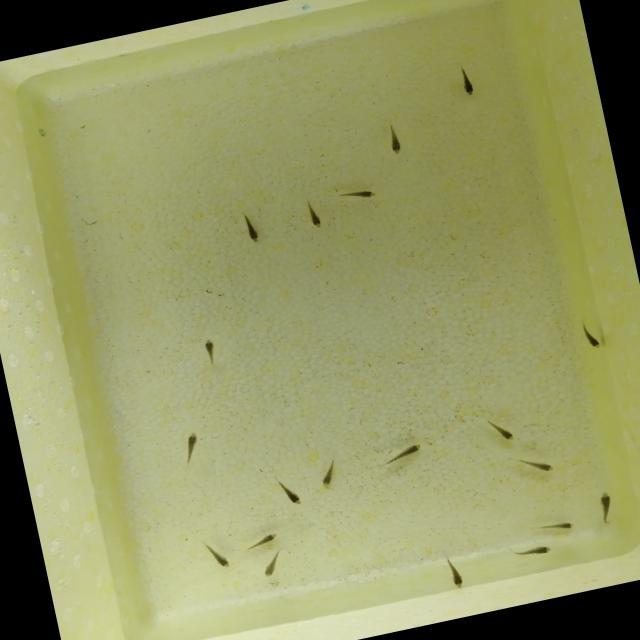fingerling: (368, 438, 428, 472), (512, 448, 560, 482), (270, 469, 307, 513), (296, 190, 330, 237), (480, 411, 520, 448), (198, 534, 235, 574), (438, 550, 470, 594), (330, 181, 382, 208), (176, 428, 207, 473), (234, 205, 266, 248), (590, 486, 622, 528), (574, 314, 606, 356), (313, 454, 345, 494), (380, 116, 409, 160), (452, 58, 480, 102), (531, 512, 578, 538), (507, 539, 556, 563), (239, 528, 283, 554), (255, 549, 288, 581), (198, 334, 222, 370)
